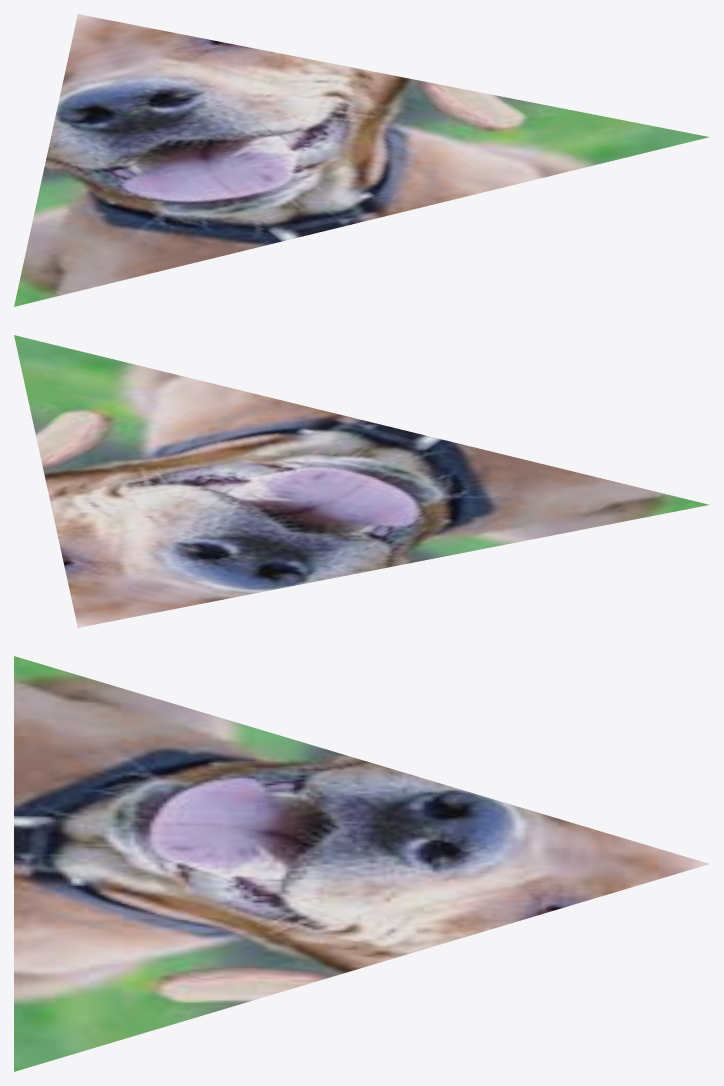
The model's file is triangle.dae.
3 renders of one model, top to bottom at view 1: azimuth 30°, elevation 25°; view 2: azimuth 150°, elevation 25°; view 3: azimuth 270°, elevation 25°, orthographic. The views are drawn at different scales.
Parts seen in each view (by area): view 1: Plane; view 2: Plane; view 3: Plane.
Boxes of the visible parts, x1,y1,x2,y2 form: Plane: (14,14,709,306); Plane: (14,335,709,627); Plane: (14,656,708,1071).
Size of the model in its own units: 1.41 by 1 by 0.
1 material, 1 textured.
